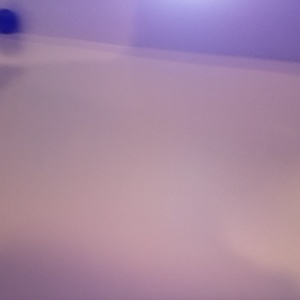alive_ball: (242, 11, 295, 65), (219, 16, 248, 49)
dead_ball: (20, 14, 76, 70)
